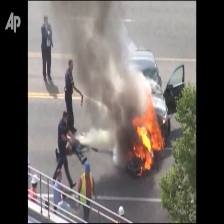fire_h: (132, 86, 165, 159)
fire_l: (144, 149, 152, 171), (139, 165, 143, 175)
